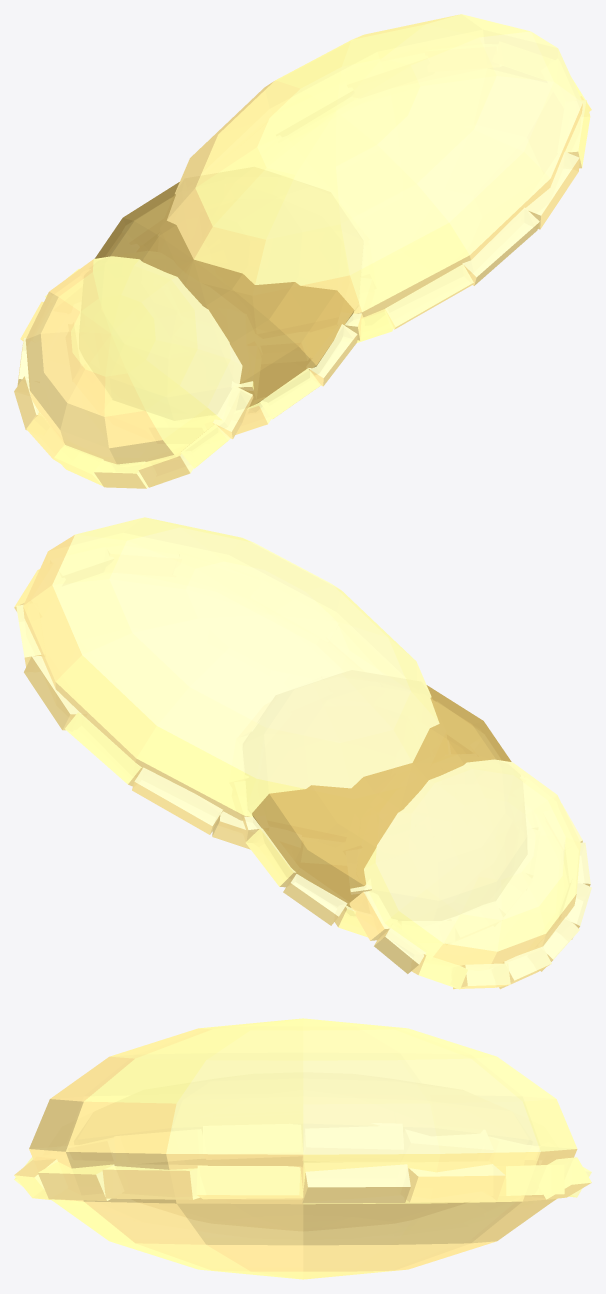
File: last_marshal_pauldron_r.glb
3 views of the same model, one above another, from view 1: azimuth 30°, elevation 25°; view 2: azimuth 150°, elevation 25°; view 3: azimuth 270°, elevation 25° (orthographic). The views are drawn at different scales.
Visible parts, largest first — view 1: last_marshal_pauldron_r; view 2: last_marshal_pauldron_r; view 3: last_marshal_pauldron_r.
Boxes of the visible parts, bbox=[...] form: last_marshal_pauldron_r: bbox=[14, 14, 591, 488]; last_marshal_pauldron_r: bbox=[14, 517, 591, 989]; last_marshal_pauldron_r: bbox=[14, 1018, 591, 1279].
Size of the model in its own units: 0.6224 by 0.383 by 0.4426.
